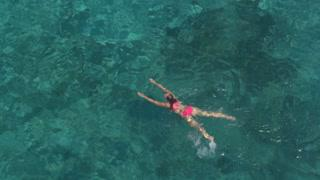human: (137, 77, 236, 146)
